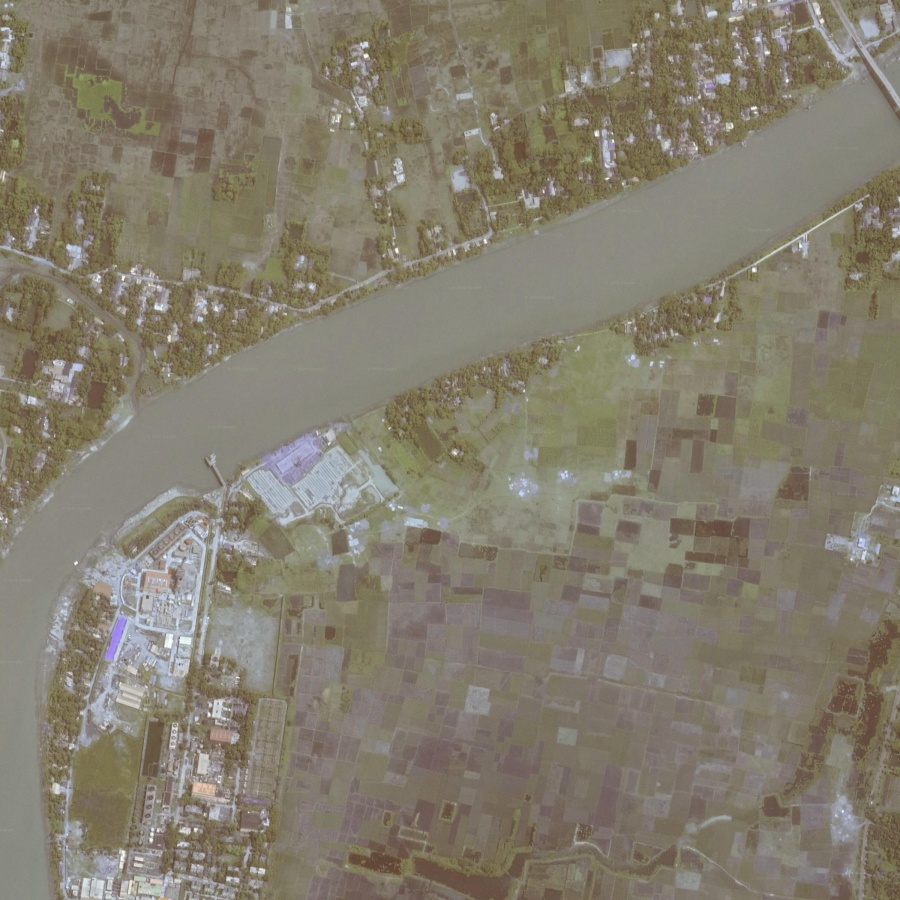PowerPlant: (132, 522, 203, 677)
